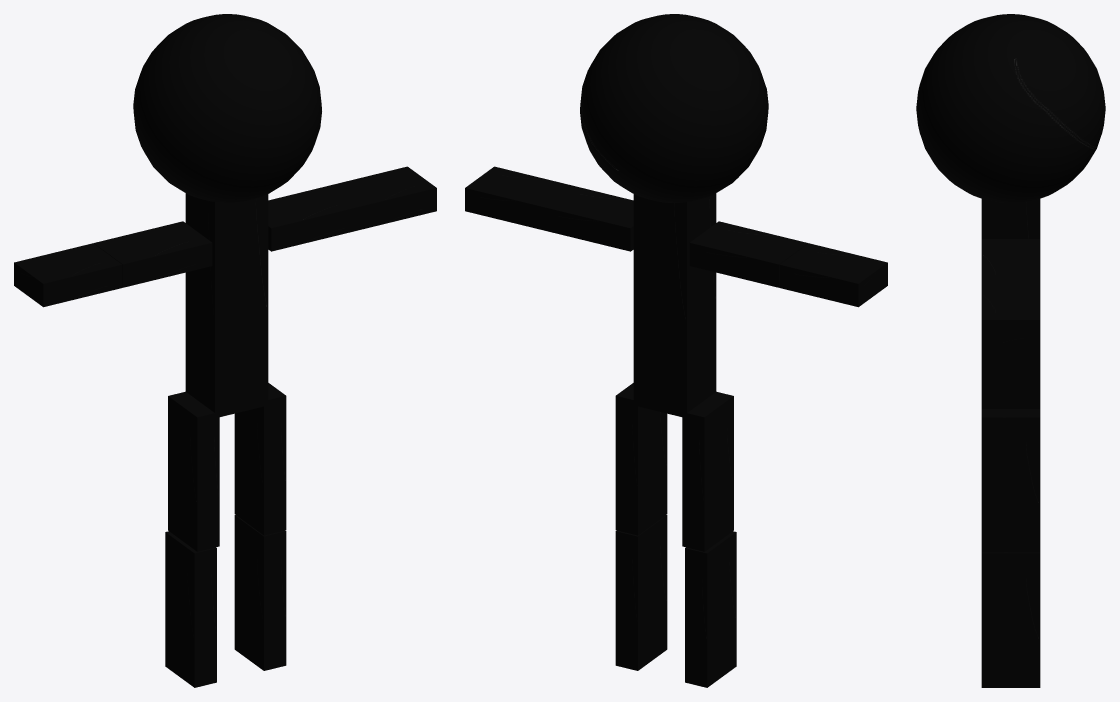
File: Bouninngen.fbx
The picture shows the model from 3 angles, left to right: view 1: azimuth 30°, elevation 25°; view 2: azimuth 150°, elevation 25°; view 3: azimuth 270°, elevation 25°; orthographic projection.
Visible parts, largest first — view 1: Sphere001, Box003, Box001, Box009, Box010, Box002, Box008, Box007, Box005, Box006; view 2: Sphere001, Box003, Box001, Box009, Box010, Box002, Box008, Box007, Box005, Box006; view 3: Sphere001, Box002, Box009, Box003, Box006, Box005.
Boxes of the visible parts, bbox=[...] form: Sphere001: bbox=[133, 14, 321, 202]; Box003: bbox=[185, 193, 268, 416]; Box001: bbox=[168, 391, 219, 551]; Box009: bbox=[234, 515, 286, 670]; Box010: bbox=[165, 531, 216, 687]; Box002: bbox=[234, 383, 286, 535]; Box008: bbox=[14, 243, 122, 307]; Box007: bbox=[93, 221, 212, 287]; Box005: bbox=[268, 185, 360, 251]; Box006: bbox=[332, 166, 436, 229]; Sphere001: bbox=[580, 14, 768, 202]; Box003: bbox=[633, 193, 716, 418]; Box001: bbox=[682, 391, 733, 551]; Box009: bbox=[615, 515, 667, 670]; Box010: bbox=[685, 531, 736, 687]; Box002: bbox=[615, 383, 667, 535]; Box008: bbox=[779, 243, 887, 307]; Box007: bbox=[689, 221, 808, 287]; Box005: bbox=[541, 185, 633, 251]; Box006: bbox=[465, 166, 569, 229]; Sphere001: bbox=[916, 14, 1105, 203]; Box002: bbox=[981, 409, 1040, 552]; Box009: bbox=[981, 552, 1040, 687]; Box003: bbox=[981, 198, 1040, 408]; Box006: bbox=[981, 281, 1040, 343]; Box005: bbox=[981, 239, 1040, 282].
Bounding box in the file's own units: 18.23 × 7.6 × 28.46.
Materials: 1 (1 with a texture image).
